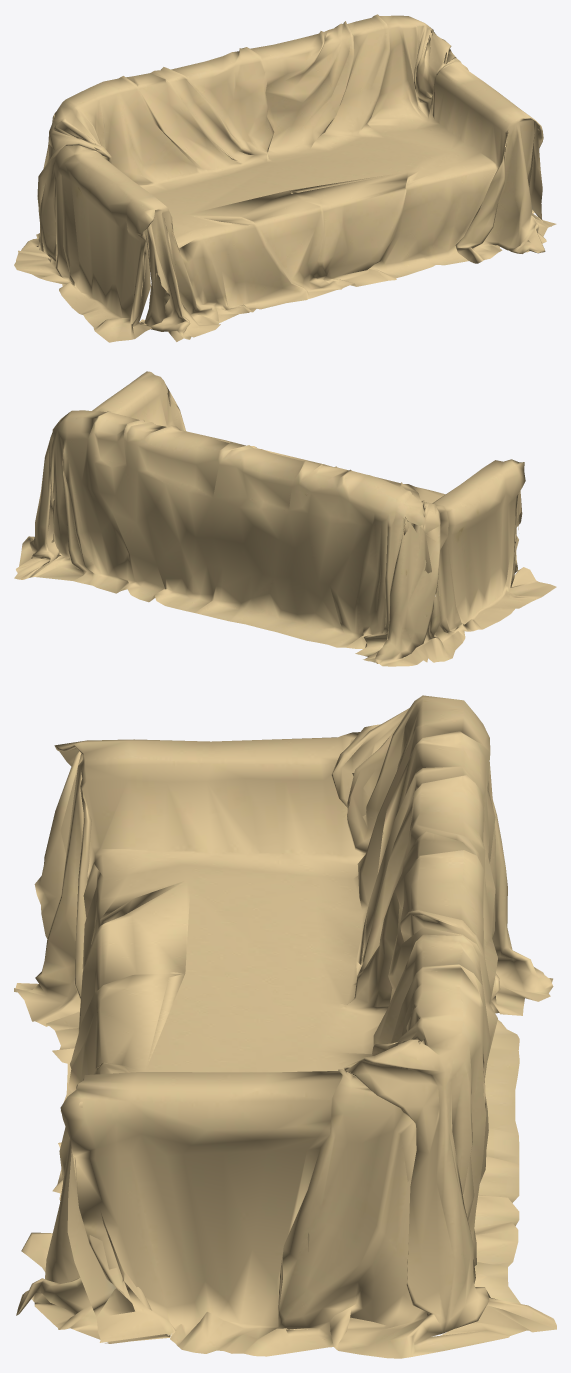
Rendered from sofa.glb.
The picture shows the model from 3 angles, top to bottom: view 1: azimuth 30°, elevation 25°; view 2: azimuth 150°, elevation 25°; view 3: azimuth 270°, elevation 25°; orthographic projection. The views are drawn at different scales.
Size of the model in its own units: 0.9502 by 0.3262 by 0.5137.
Materials: 1 (1 with a texture image).
